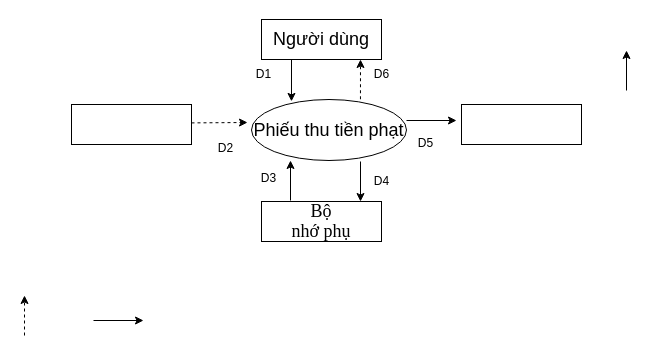
Image size: 652x361. Some labels were removed from this diagram. Each missing label, with the centre of its shape:
Thiết bị nhập: pixel 131 124
Thiết bị xuất: pixel 521 124
